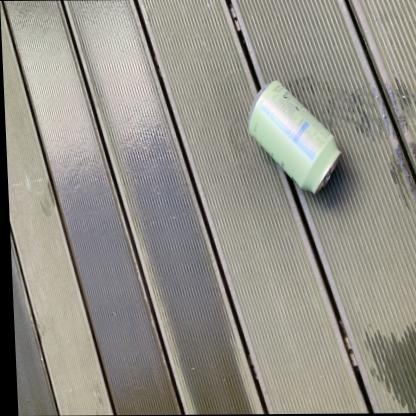trash: (249, 81, 339, 192)
